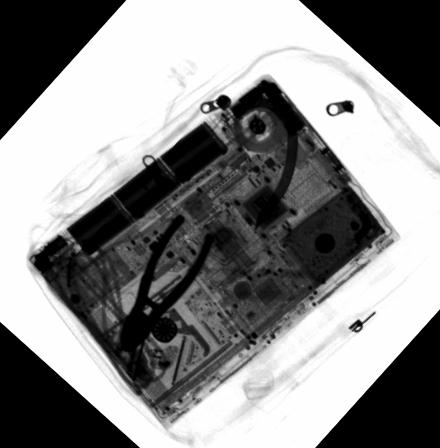Pliers: (119, 212, 216, 354)
